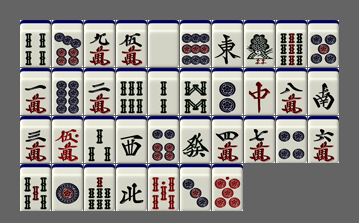0m: (52, 116, 83, 163)
0p: (212, 164, 243, 211)
0s: (148, 164, 179, 211)
1m: (20, 68, 51, 115)
1p: (52, 164, 83, 211)
1s: (244, 20, 275, 67)
1z: (212, 20, 243, 67)
2m: (84, 68, 115, 115)
2p: (212, 68, 243, 115)
2s: (148, 68, 179, 115)
2z: (308, 68, 339, 115)
3m: (20, 116, 51, 163)
3p: (180, 164, 211, 211)
3s: (84, 116, 115, 163)
3z: (116, 116, 147, 163)
4m: (212, 116, 243, 163)
4p: (276, 116, 307, 163)
4s: (20, 20, 51, 67)
4z: (116, 164, 147, 211)
5m: (116, 20, 147, 67)
5p: (308, 20, 339, 67)
5s: (20, 164, 51, 211)
5z: (148, 20, 179, 67)
6m: (308, 116, 339, 163)
6p: (148, 116, 179, 163)
6s: (116, 68, 147, 115)
6z: (180, 116, 211, 163)
7m: (244, 116, 275, 163)
7p: (52, 20, 83, 67)
7s: (84, 164, 115, 211)
7z: (244, 68, 275, 115)
8m: (276, 68, 307, 115)
8p: (52, 68, 83, 115)
8s: (180, 68, 211, 115)
9m: (84, 20, 115, 67)
9p: (180, 20, 211, 67)
9s: (276, 20, 307, 67)
